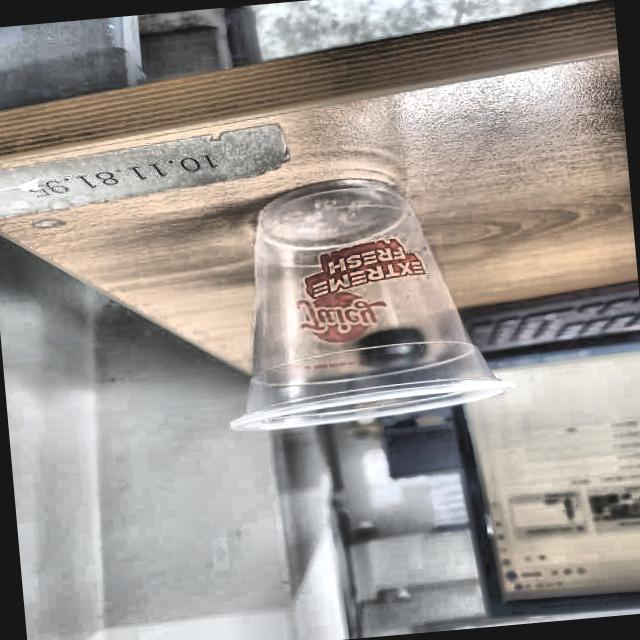plastic cup: (208, 166, 514, 436)
